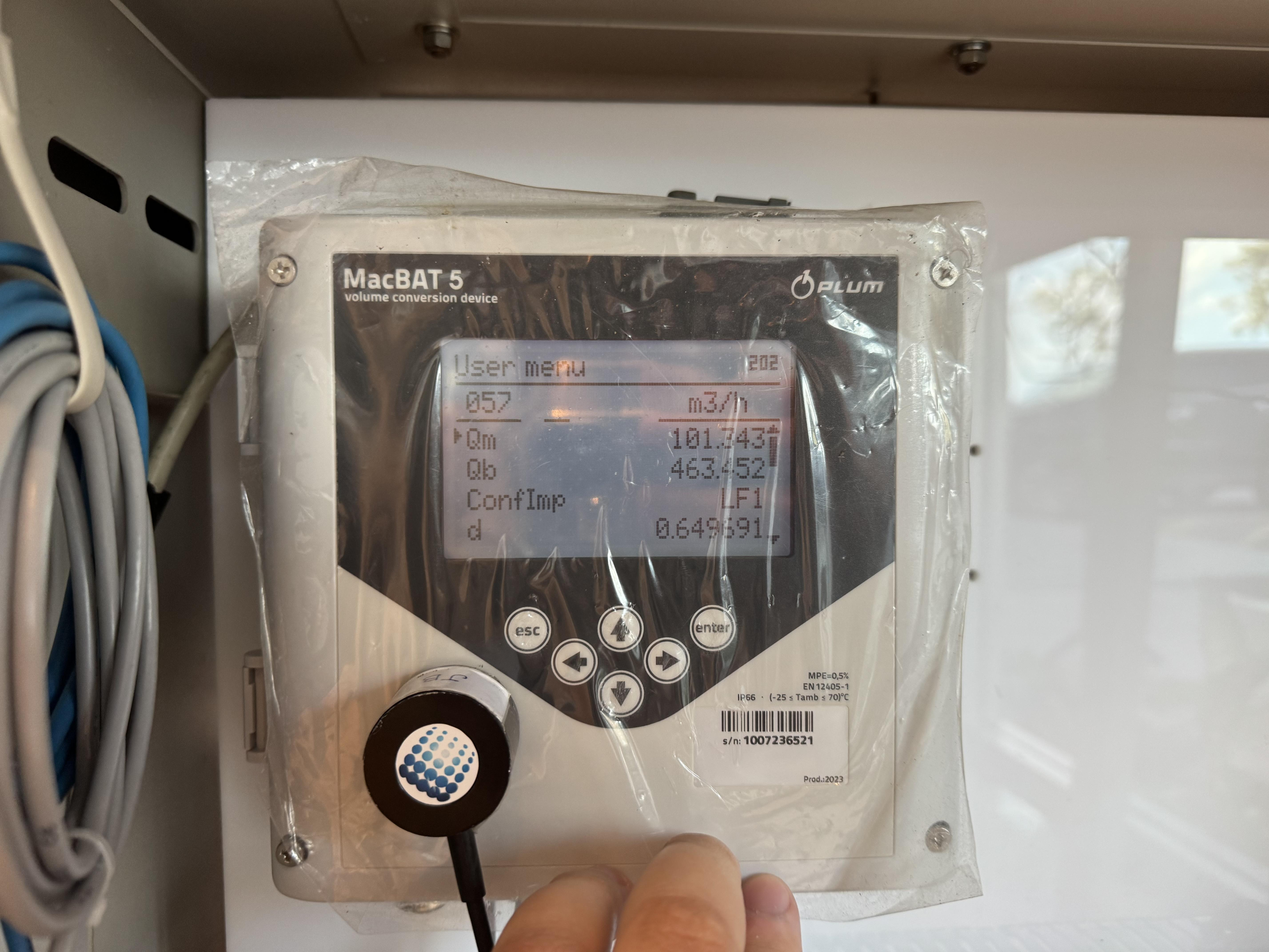digital_screen: (441, 338, 795, 560)
